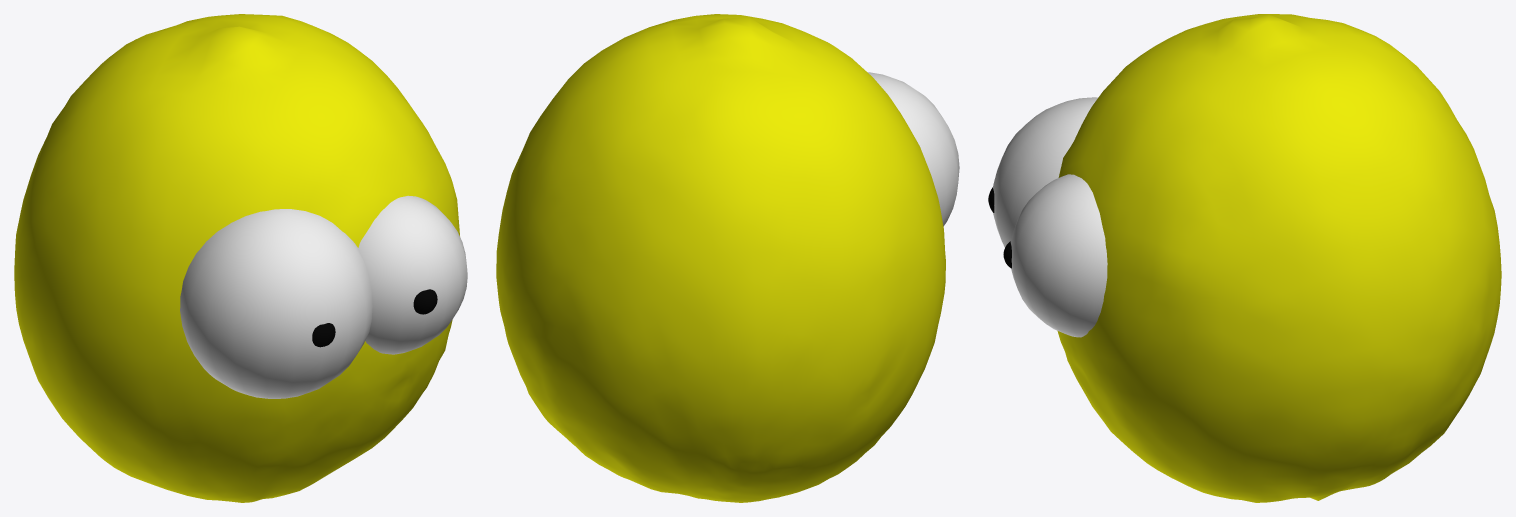
Rendered from Limone.fbx.
3 views of the same model, side by side, from view 1: azimuth 30°, elevation 25°; view 2: azimuth 150°, elevation 25°; view 3: azimuth 270°, elevation 25° (orthographic). The views are drawn at different scales.
Visible parts, largest first — view 1: Eyes:Poteiro1; view 2: Eyes:Poteiro1; view 3: Eyes:Poteiro1.
Boxes of the visible parts, x1=… form: Eyes:Poteiro1: x1=14, y1=14, x2=467, y2=502; Eyes:Poteiro1: x1=496, y1=14, x2=959, y2=502; Eyes:Poteiro1: x1=988, y1=14, x2=1501, y2=502.
Bounding box in the file's own units: 2.85 × 3.18 × 3.21.
